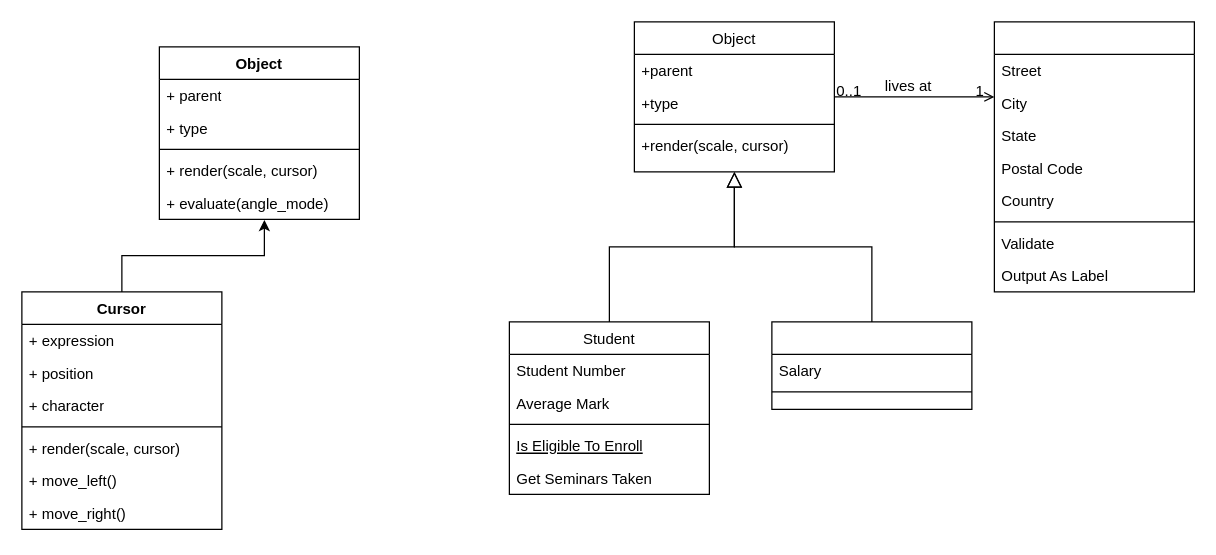
The diagram is 1216 pixels wide and 555 high, and some of its shapes have lost their labels. The shapes that lost their labels are listed below. From the top down, each one's box as (x1, y1, x2, y2) in pixels, then its label:
(993, 21, 1194, 292): Address
(771, 321, 972, 409): Professor
